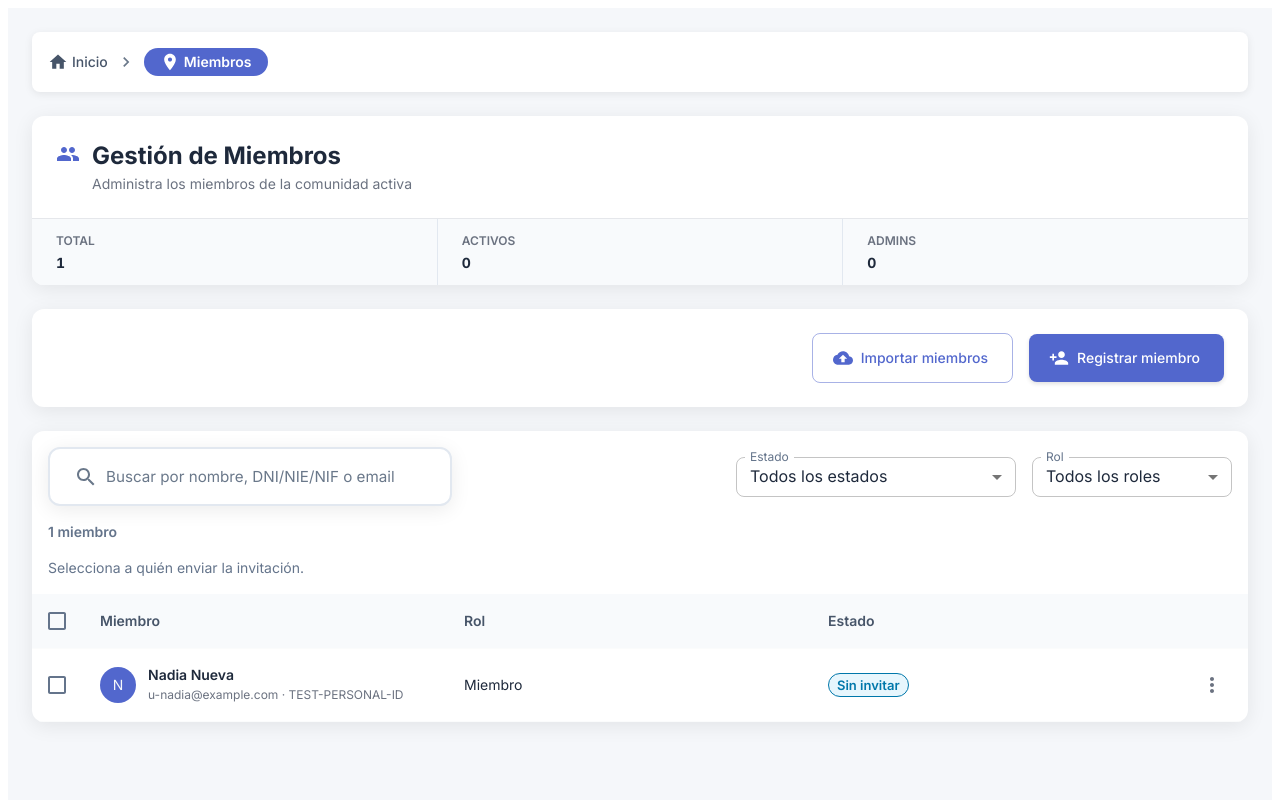
Test case: a send refused as a whole › UI-MBR-041 answers 400 MEMBERSHIP_INVITATION_SELECTION_EMPTY with its own message, reports nothing sent, and keeps the selection
The width and height of the screenshot is (1280, 800).
Expected: the text "Nadia Nueva" is shown, x1=148 y1=666 x2=234 y2=683
Click the checkbox named "Seleccionar Nadia Nueva". click: click(57, 685)
box: x1=45 y1=673 x2=69 y2=697
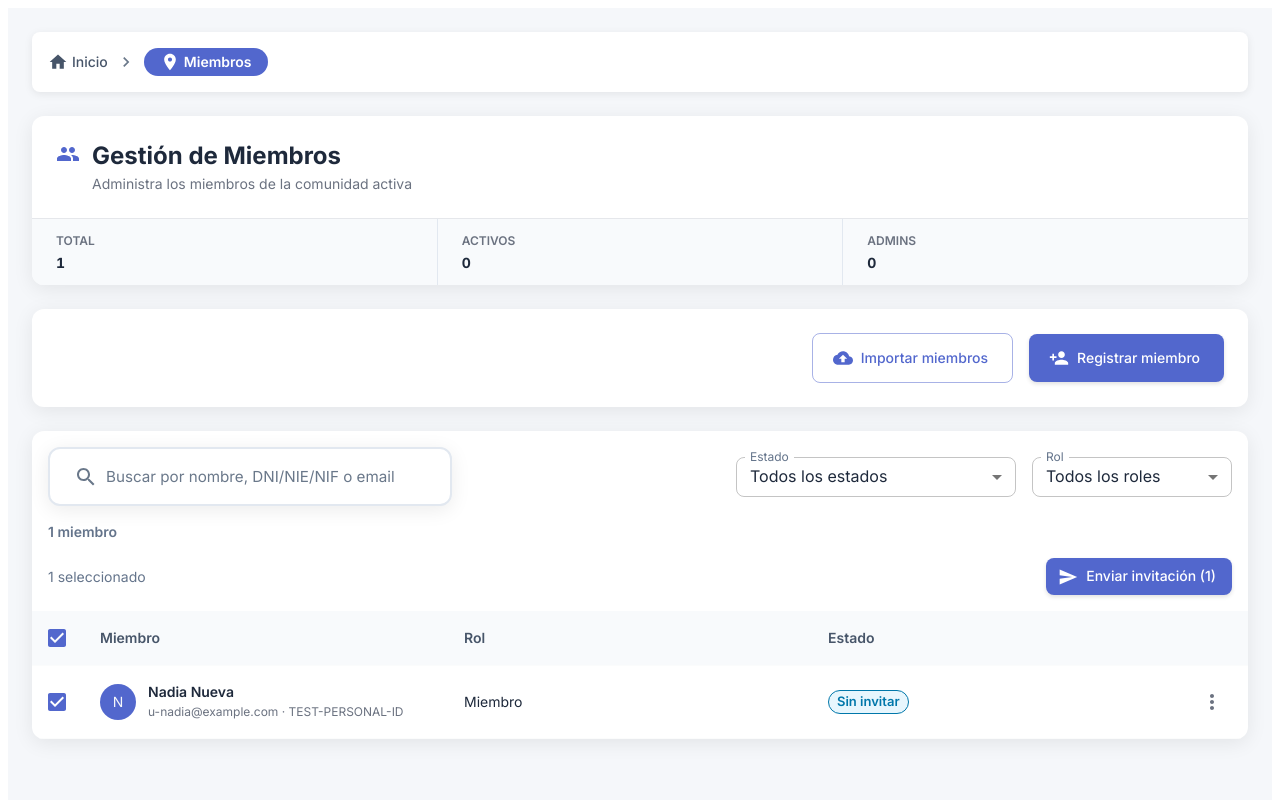
Click the button "Enviar invitación (1)". click: click(1139, 577)
box: x1=1046 y1=558 x2=1232 y2=595
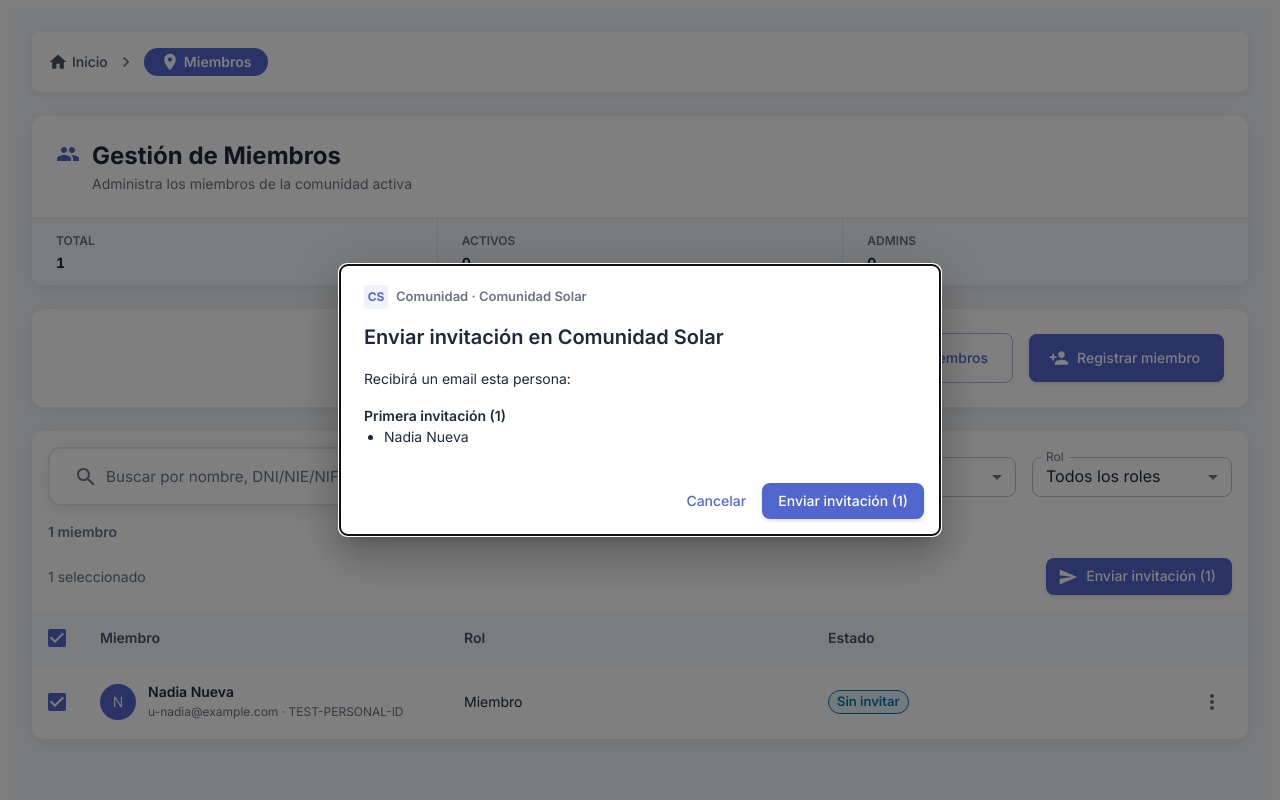
Click the button "Enviar invitación (1)". click: click(843, 501)
box: x1=762 y1=483 x2=924 y2=519
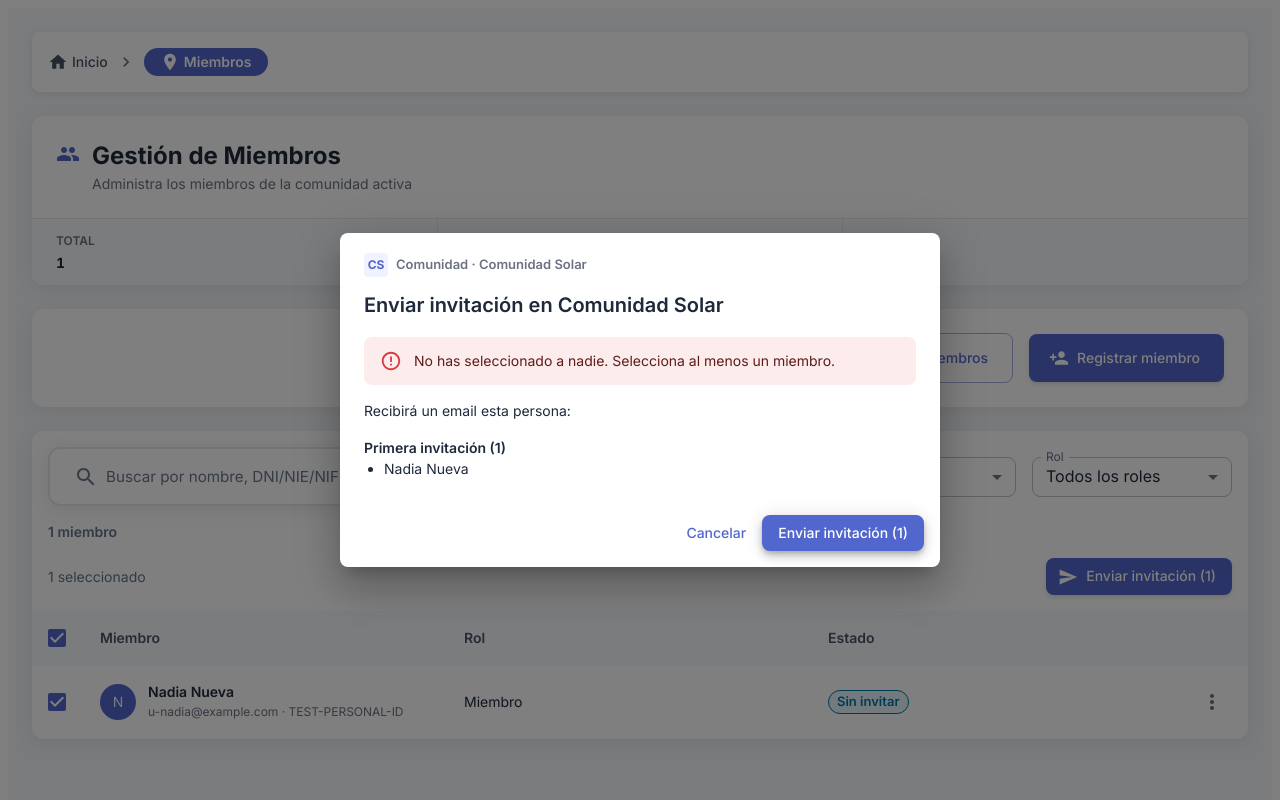
Click the button "Cancelar". click: click(716, 533)
box: x1=678 y1=515 x2=754 y2=551
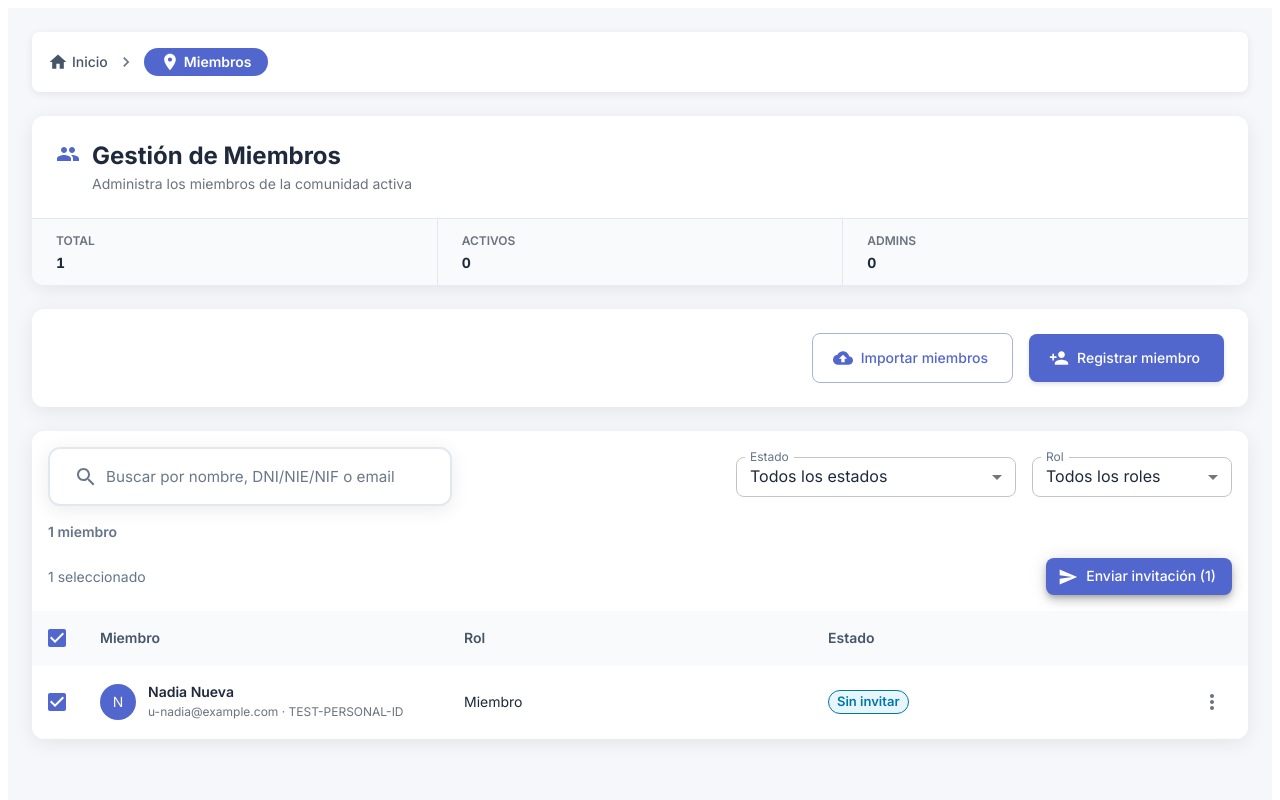
Expected: the checkbox named "Seleccionar Nadia Nueva" is checked, x1=45 y1=690 x2=69 y2=714
Expected: the text "1 seleccionado" is shown, x1=48 y1=568 x2=146 y2=584
Expected: the dialog is gone
